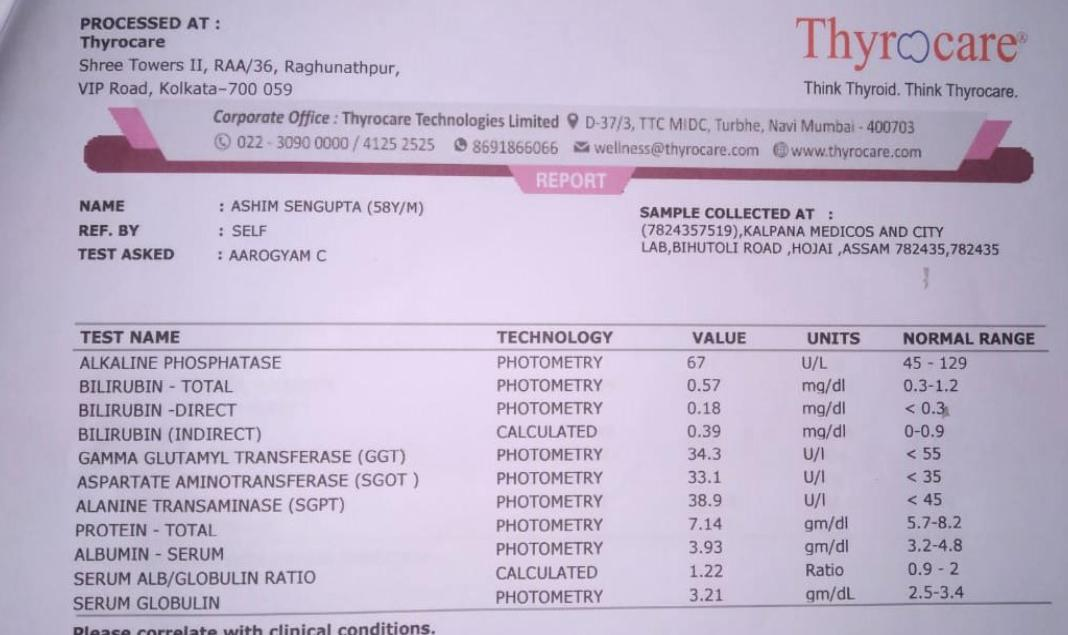Reference Range: (898, 349, 976, 605)
Test Name: (66, 350, 423, 616)
Units: (792, 349, 865, 607)
Value: (677, 349, 741, 607)
